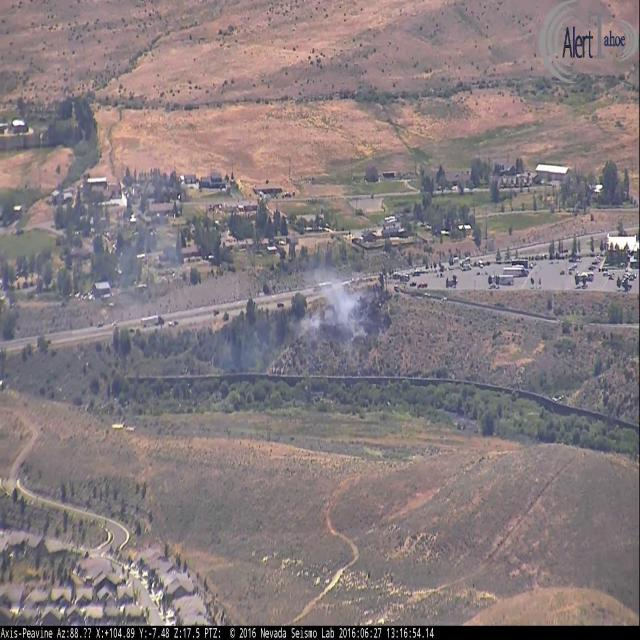smoke: (158, 198, 402, 390)
